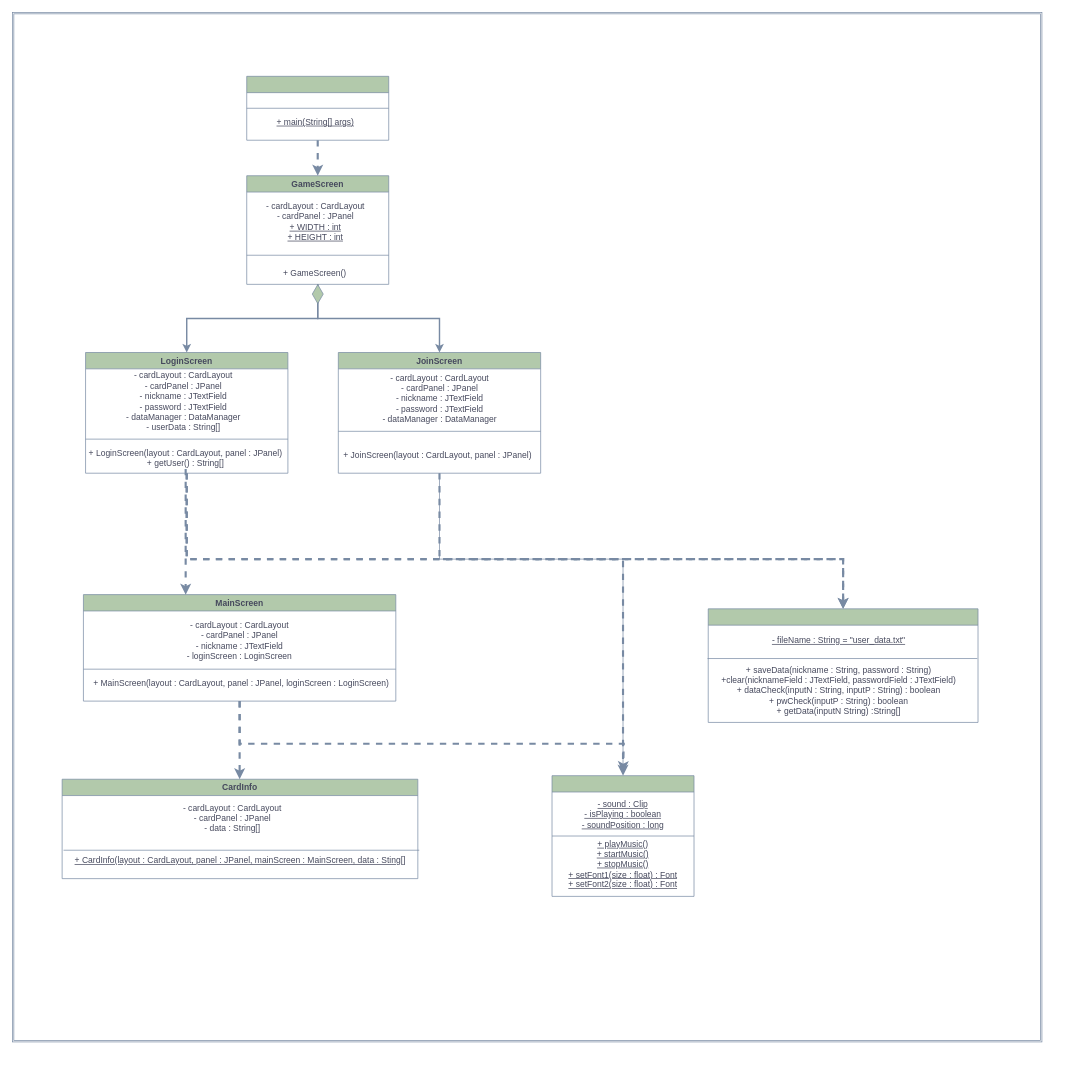
The diagram is 1090 pixels wide and 1090 high, and some of its shapes have lost their labels. Here are the shapes that lost their labels. From the top down, the box of each, then its label:
(246, 76, 389, 140): Screen
(708, 608, 978, 722): DataManager
(551, 775, 694, 896): Utility
